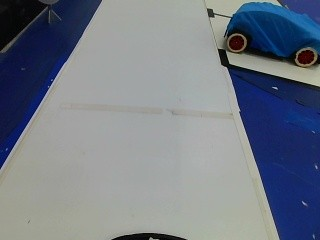car: (221, 4, 318, 65)
